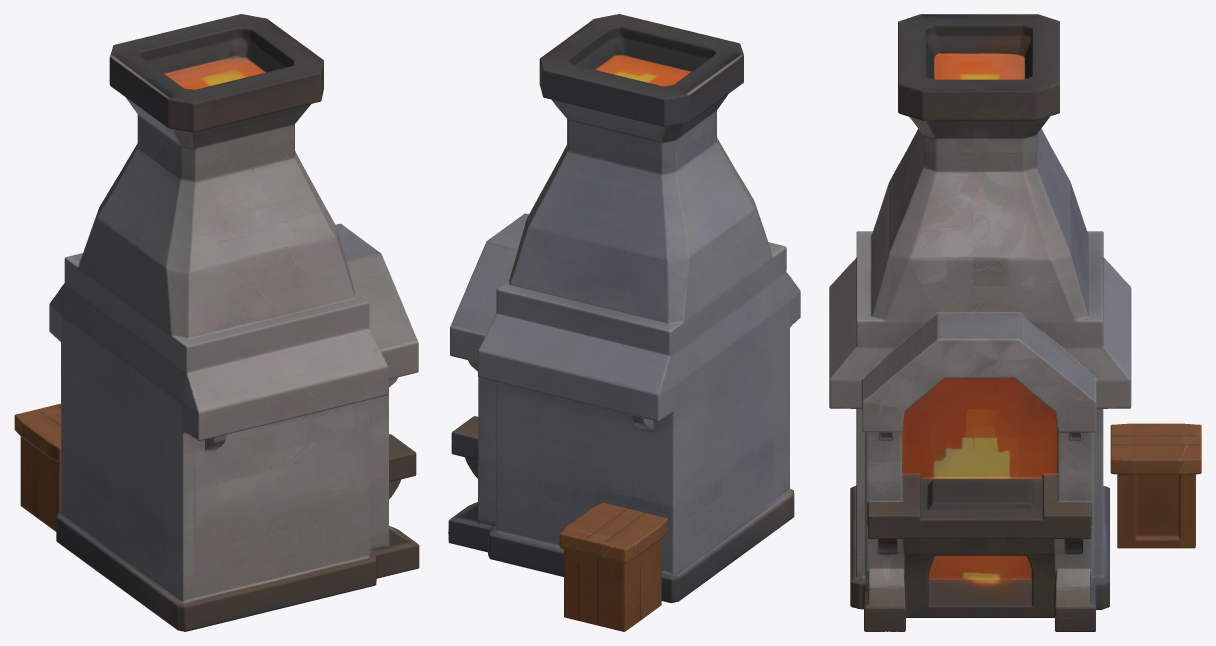
Rendered from blacksmith.glb.
The picture shows the model from 3 angles, left to right: view 1: azimuth 30°, elevation 25°; view 2: azimuth 150°, elevation 25°; view 3: azimuth 270°, elevation 25°; orthographic projection. The views are drawn at different scales.
Visible parts, largest first — view 1: tripo_node_c5531346-c0b7-486f-8177-d58cacc34493; view 2: tripo_node_c5531346-c0b7-486f-8177-d58cacc34493; view 3: tripo_node_c5531346-c0b7-486f-8177-d58cacc34493.
Part boxes in pixels (left/top/right/bottom): tripo_node_c5531346-c0b7-486f-8177-d58cacc34493: left=14, top=14, right=419, bottom=631; tripo_node_c5531346-c0b7-486f-8177-d58cacc34493: left=448, top=14, right=800, bottom=631; tripo_node_c5531346-c0b7-486f-8177-d58cacc34493: left=829, top=14, right=1201, bottom=631.
Bounding box in the file's own units: 0.5095 × 1 × 0.6629.
1 material, 1 textured.
